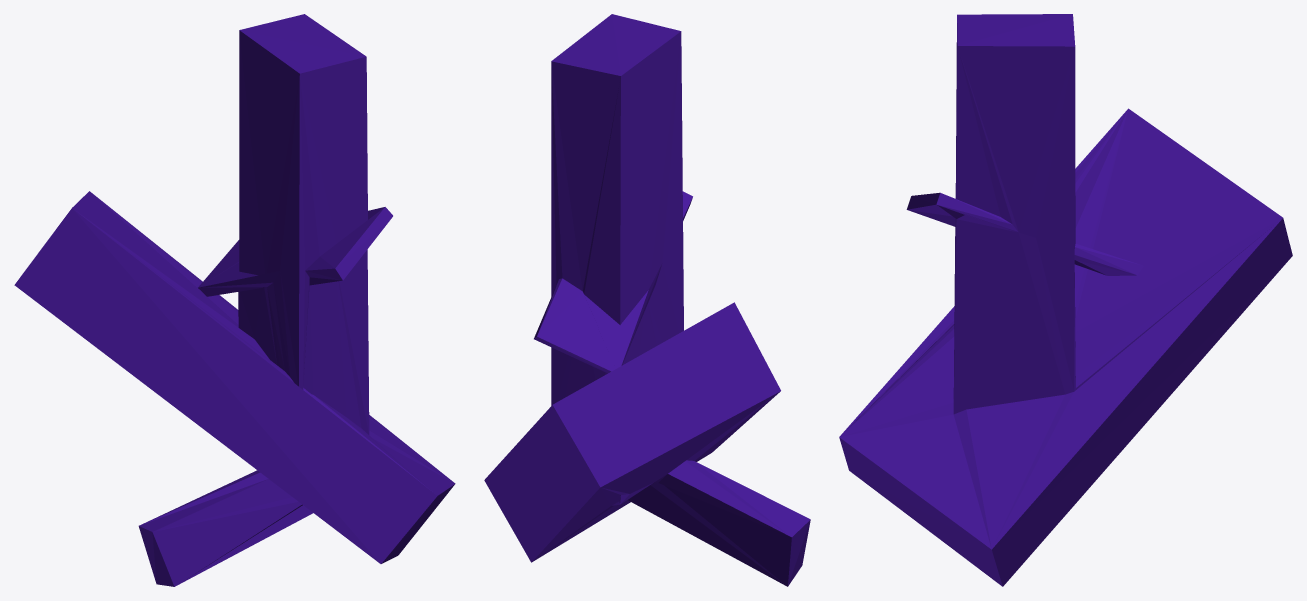
The picture shows the model from 3 angles, left to right: view 1: azimuth 30°, elevation 25°; view 2: azimuth 150°, elevation 25°; view 3: azimuth 270°, elevation 25°; orthographic projection. The views are drawn at different scales.
Visible parts, largest first — view 1: 738_Cube.2962; view 2: 738_Cube.2962; view 3: 738_Cube.2962.
Boxes of the visible parts, bbox=[...] form: 738_Cube.2962: bbox=[14, 14, 455, 586]; 738_Cube.2962: bbox=[484, 14, 810, 586]; 738_Cube.2962: bbox=[839, 14, 1292, 586].
Bounding box in the file's own units: 10.91 × 15.12 × 12.08.
